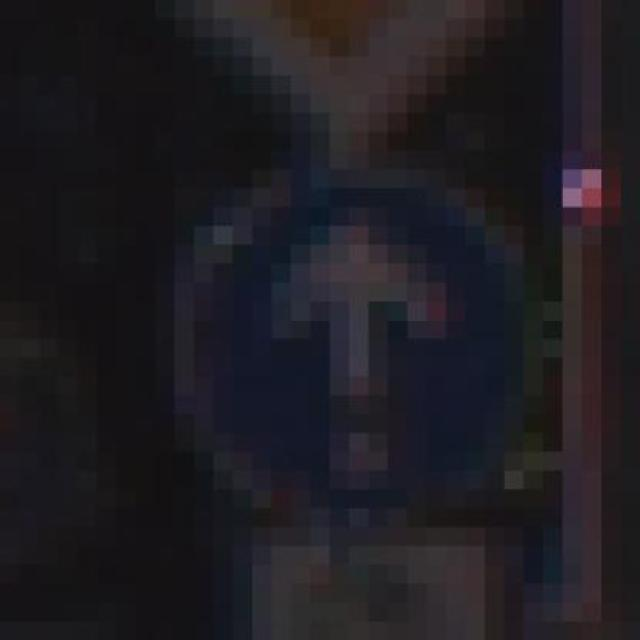Straight Ahead Only: (135, 131, 543, 527)
